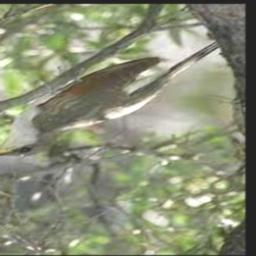Cuckoo: (0, 42, 220, 158)
